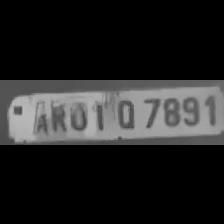0: (111, 95, 137, 129), (66, 97, 90, 131)
1: (90, 97, 110, 131), (201, 92, 221, 125)
7: (138, 94, 160, 128)
8: (160, 94, 180, 128)
9: (179, 92, 201, 126)
A: (30, 97, 50, 133)
R: (46, 96, 66, 132)
